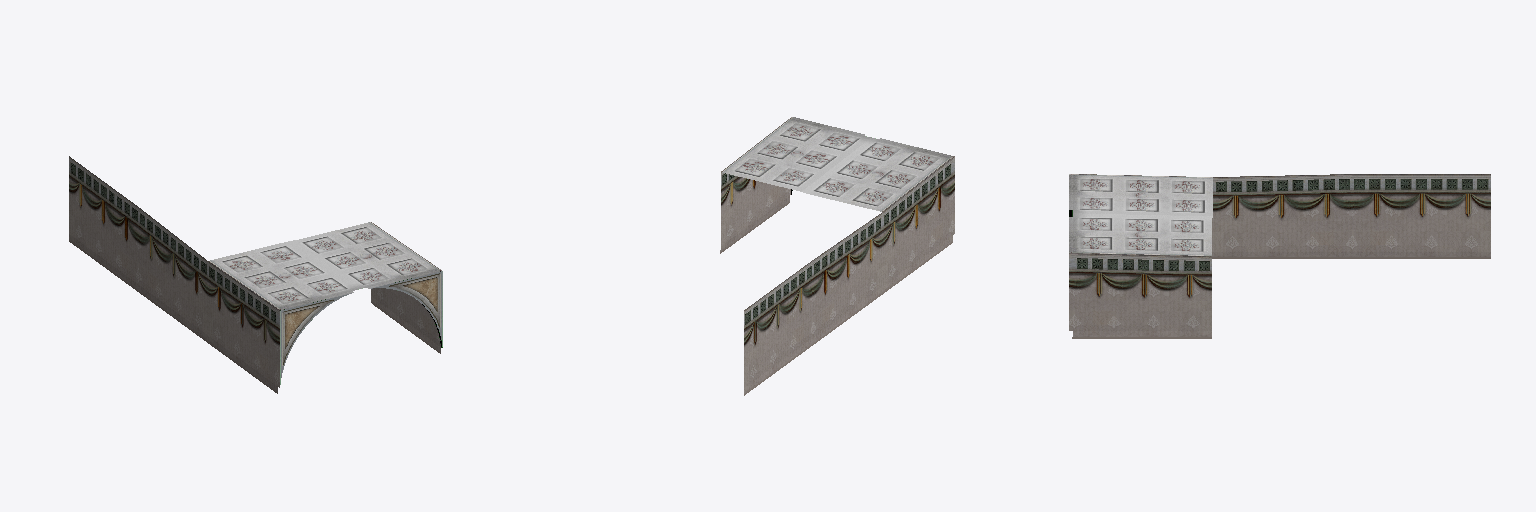
3 renders of one model, left to right at view 1: azimuth 30°, elevation 25°; view 2: azimuth 150°, elevation 25°; view 3: azimuth 270°, elevation 25°, orthographic.
Parts seen in each view (by area): view 1: Object008; view 2: Object008; view 3: Object008.
Boxes of the visible parts, x1=… form: Object008: x1=69, y1=156, x2=442, y2=393; Object008: x1=720, y1=117, x2=954, y2=395; Object008: x1=1069, y1=174, x2=1490, y2=338.
Bounding box in the file's own units: 8.2 × 4.1 × 18.34.
1 materials, 1 textured.